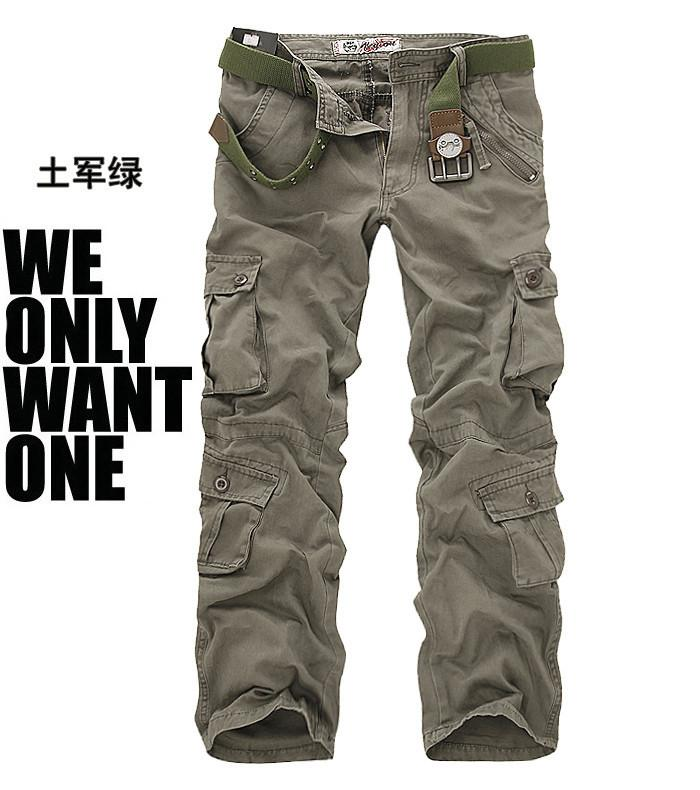pants: (203, 27, 564, 750)
